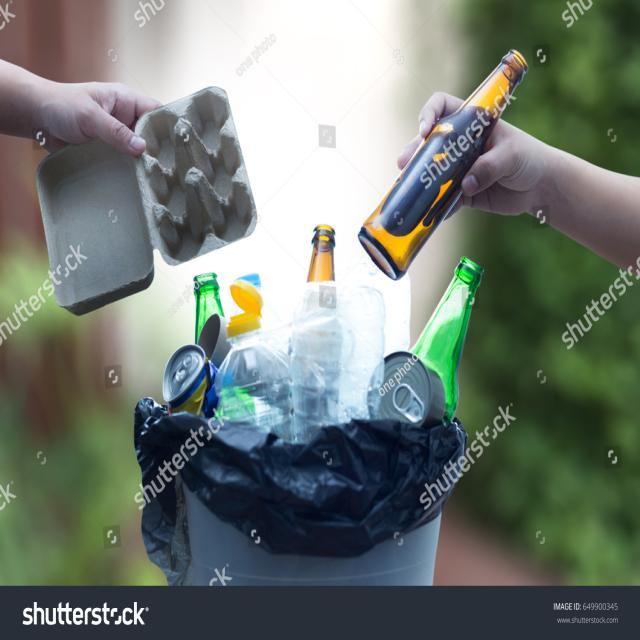cardboard: (51, 170, 224, 276)
glass: (369, 170, 444, 268)
metal: (390, 358, 434, 430), (172, 354, 210, 406)
plastic: (245, 296, 372, 416)
